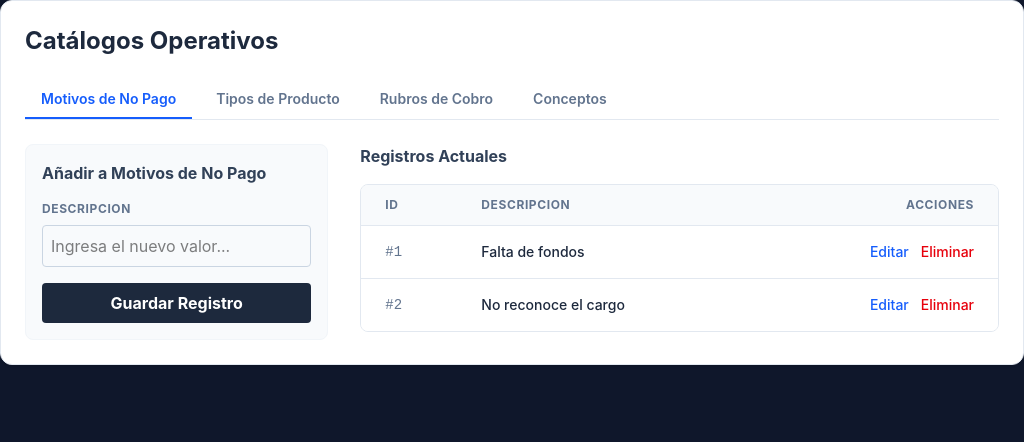
Test: CatalogosManager: alta › avisa cuando el alta falla
Expected: the text "Falta de fondos" is shown, [457,226,759,278]
Type "Duplicado" into the field with placeholder "Ingresa el nuevo valor..." at (177, 246), box [42,225,311,267]
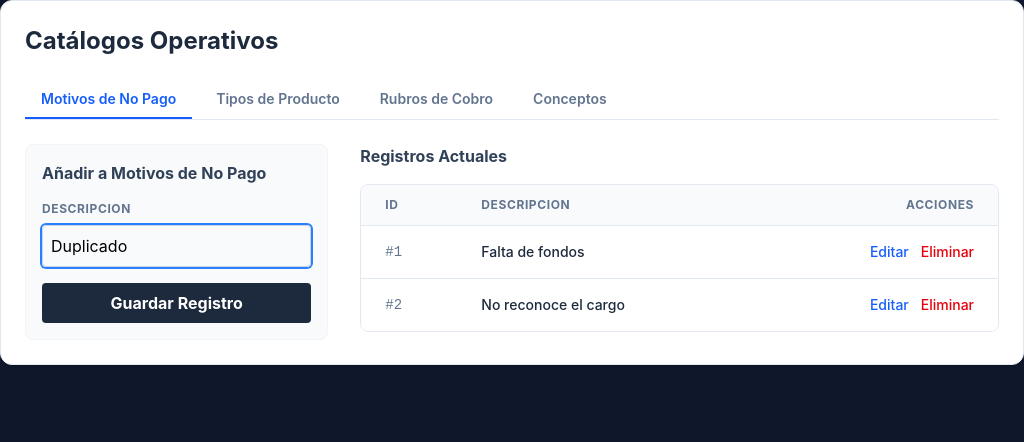
Click the button "Guardar Registro" at (177, 303), box [42,283,311,323]
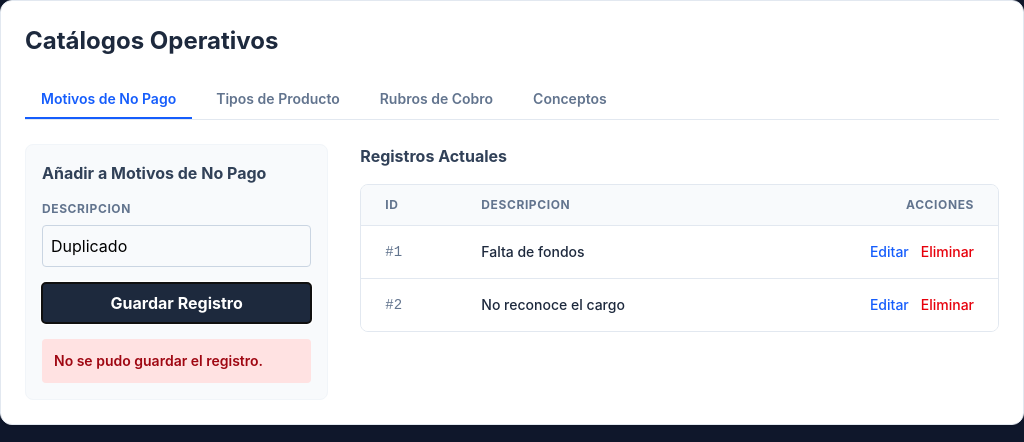
Result: the text "No se pudo guardar el registro." is shown at [42,339,311,383]
